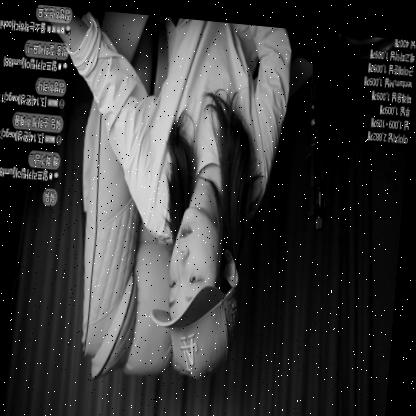streamer: (29, 4, 293, 382)
